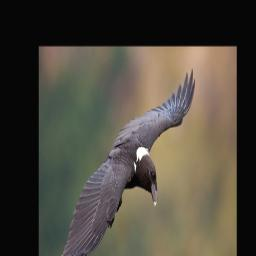Crow: (49, 67, 196, 256)
